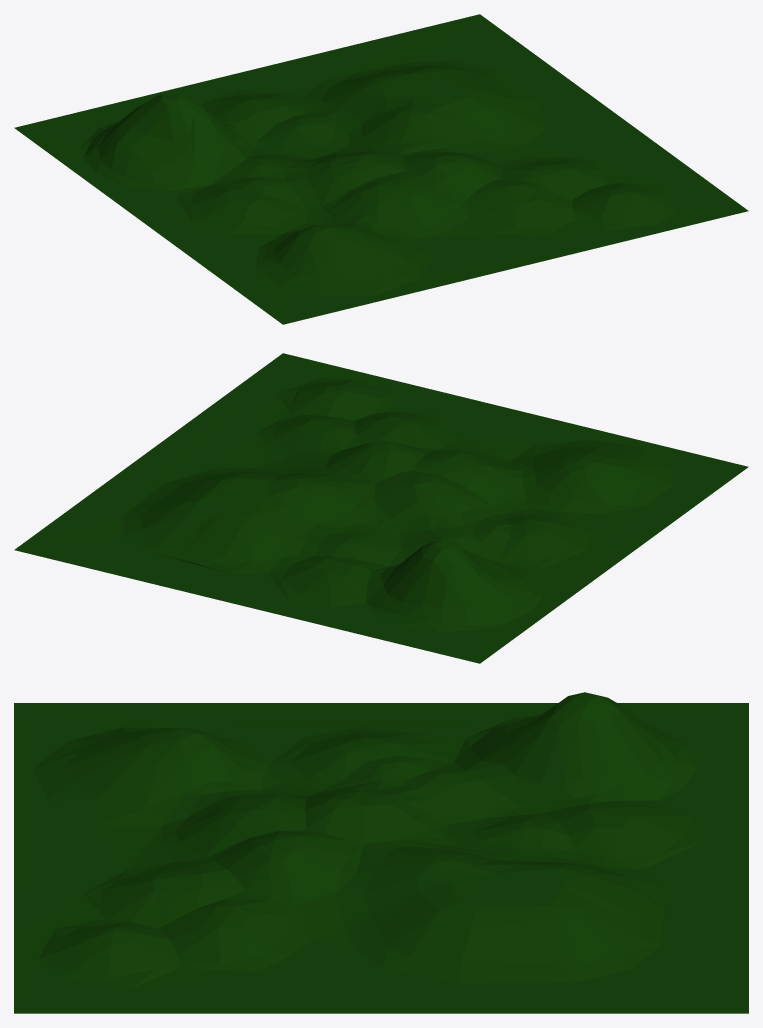
File: Terrain_Part_Plane_5.fbx
3 views of the same model, one above another, from view 1: azimuth 30°, elevation 25°; view 2: azimuth 150°, elevation 25°; view 3: azimuth 270°, elevation 25° (orthographic). The views are drawn at different scales.
Parts seen in each view (by area): view 1: Terrain_Part_Plane_5; view 2: Terrain_Part_Plane_5; view 3: Terrain_Part_Plane_5.
Boxes of the visible parts, x1=… form: Terrain_Part_Plane_5: x1=14, y1=14, x2=748, y2=324; Terrain_Part_Plane_5: x1=14, y1=353, x2=748, y2=663; Terrain_Part_Plane_5: x1=14, y1=692, x2=748, y2=1013.
Size of the model in its own units: 2000 by 213 by 2000.
